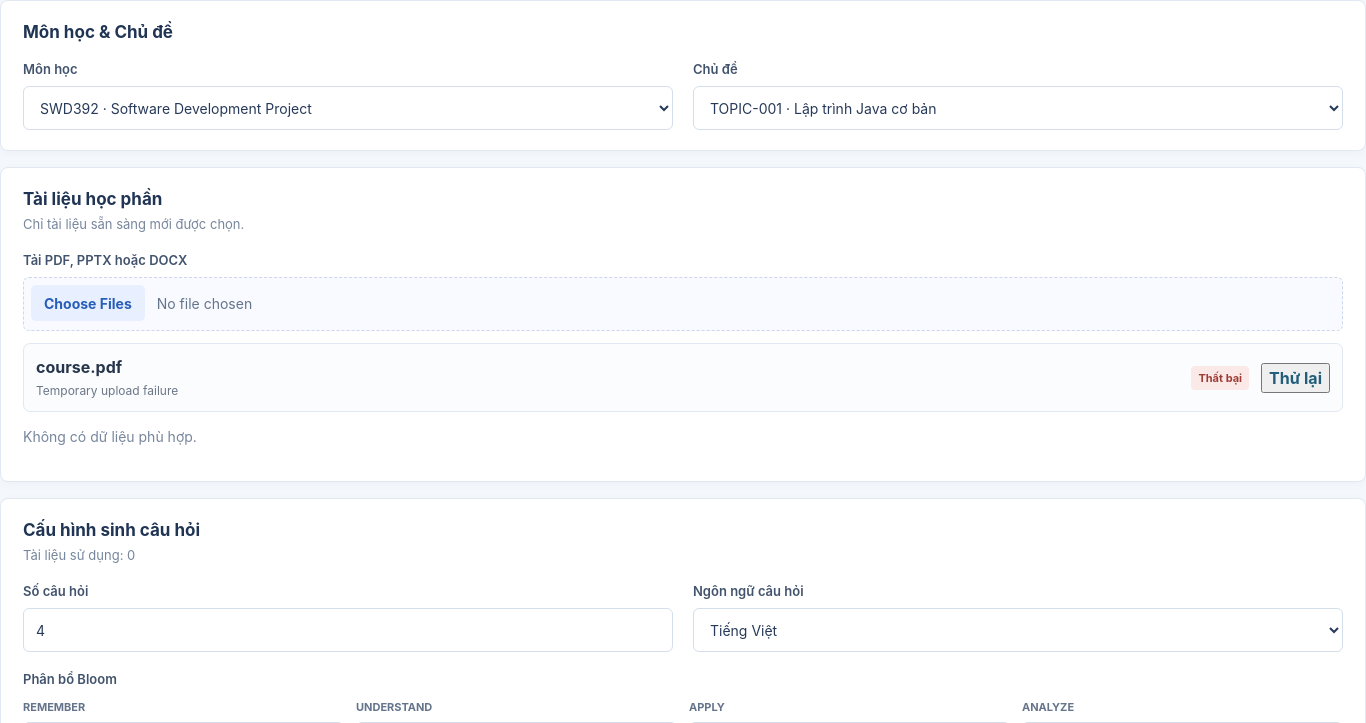
GenerateQuestionPage subject and topic selection › retries a failed document upload without asking the lecturer to reselect the file
This screenshot has width=1366, height=723.
Earlier steps of the test are not shown.
Expected: the text "Temporary upload failure" is shown, [36,382,178,400]
Click the button "Thử lại": (1296, 378) [1261,363,1330,393]
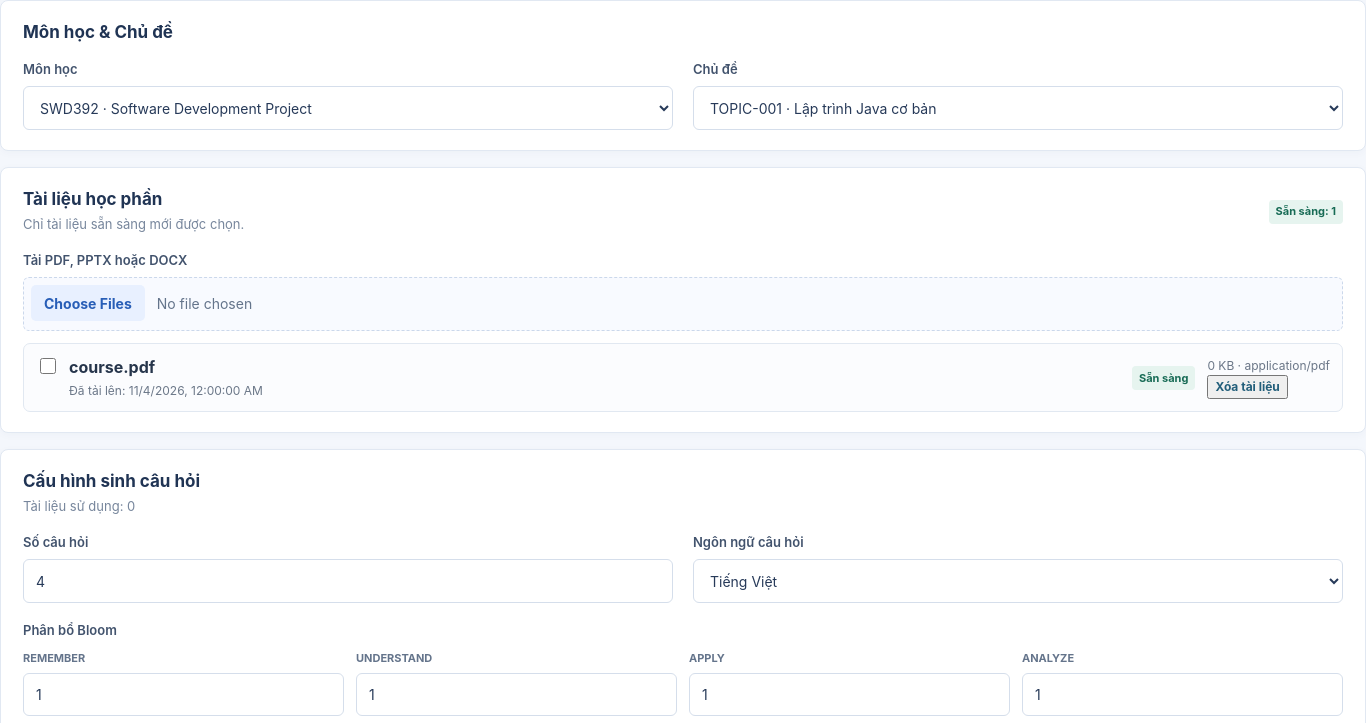
Expected: the text "Sẵn sàng" is shown, [1132,366,1195,390]
